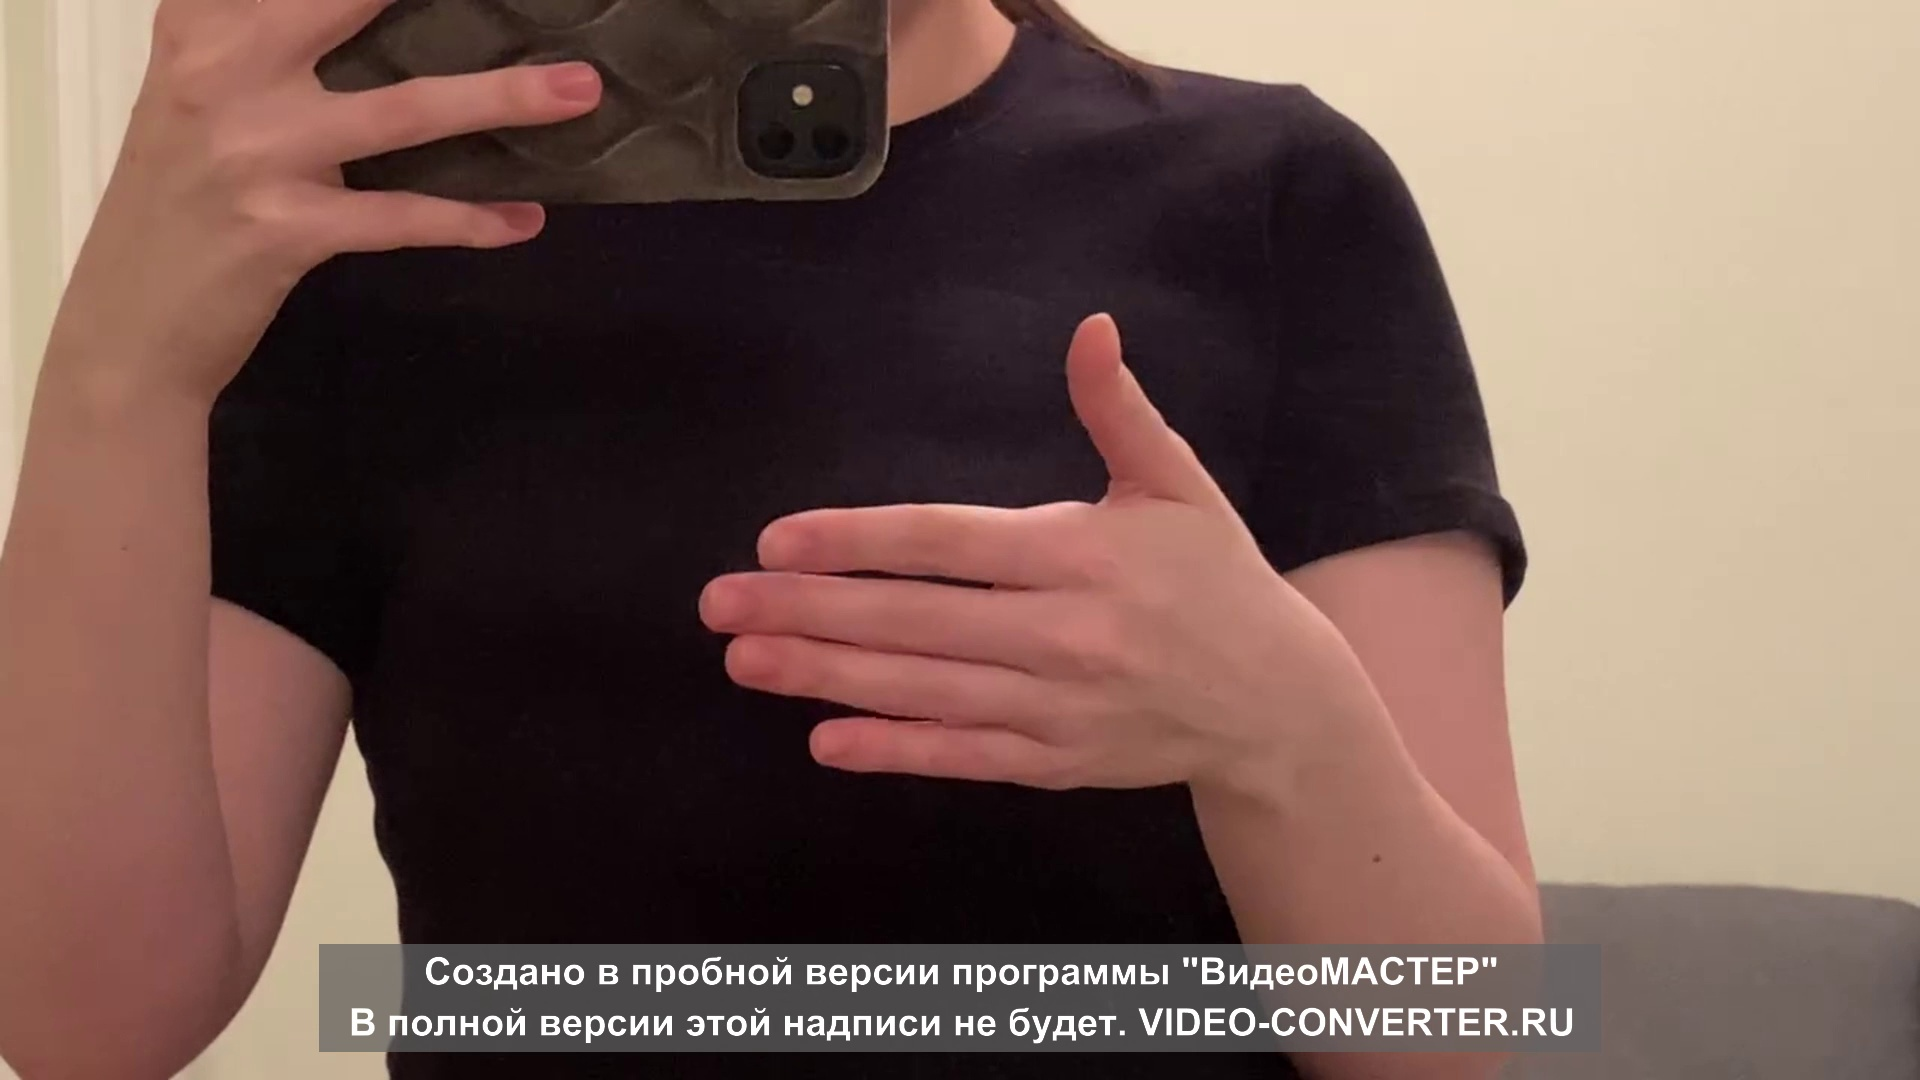Кисть: (698, 313, 1282, 789)
